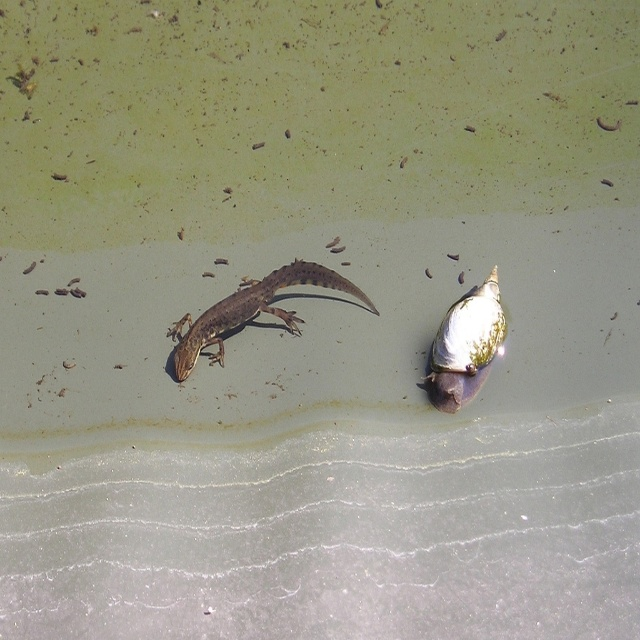Lizard: (166, 256, 382, 393), (423, 253, 509, 408)
